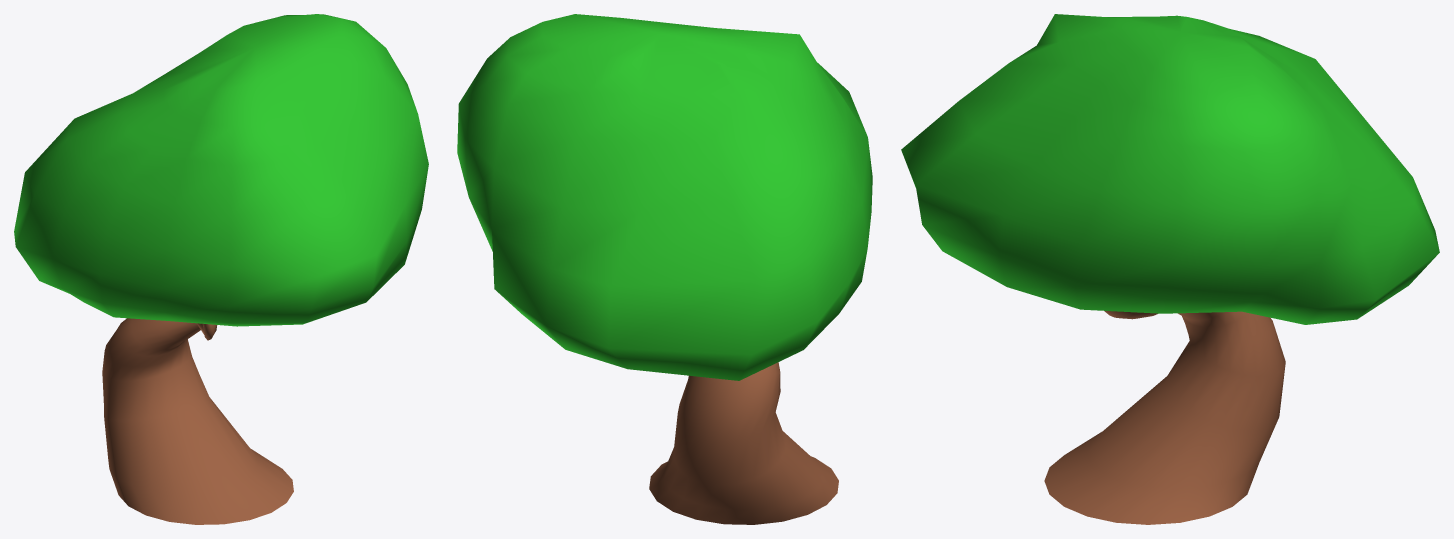
The model's file is SM_TreeBig.fbx.
3 views of the same model, side by side, from view 1: azimuth 30°, elevation 25°; view 2: azimuth 150°, elevation 25°; view 3: azimuth 270°, elevation 25° (orthographic). The views are drawn at different scales.
Parts seen in each view (by area): view 1: SM_TreeBig1; view 2: SM_TreeBig1; view 3: SM_TreeBig1.
Boxes of the visible parts, bbox=[...] form: SM_TreeBig1: bbox=[14, 14, 428, 524]; SM_TreeBig1: bbox=[457, 14, 872, 524]; SM_TreeBig1: bbox=[901, 14, 1439, 524].
Bounding box in the file's own units: 44.73 × 50.09 × 50.41.
